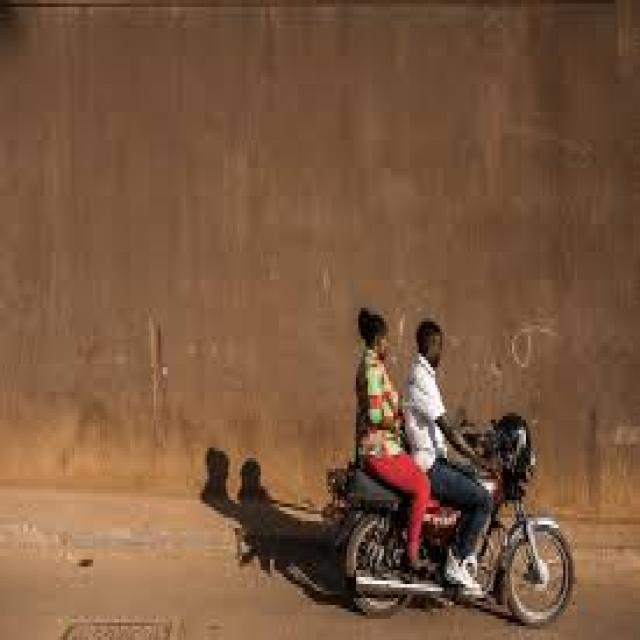bodaboda: (298, 381, 606, 640)
